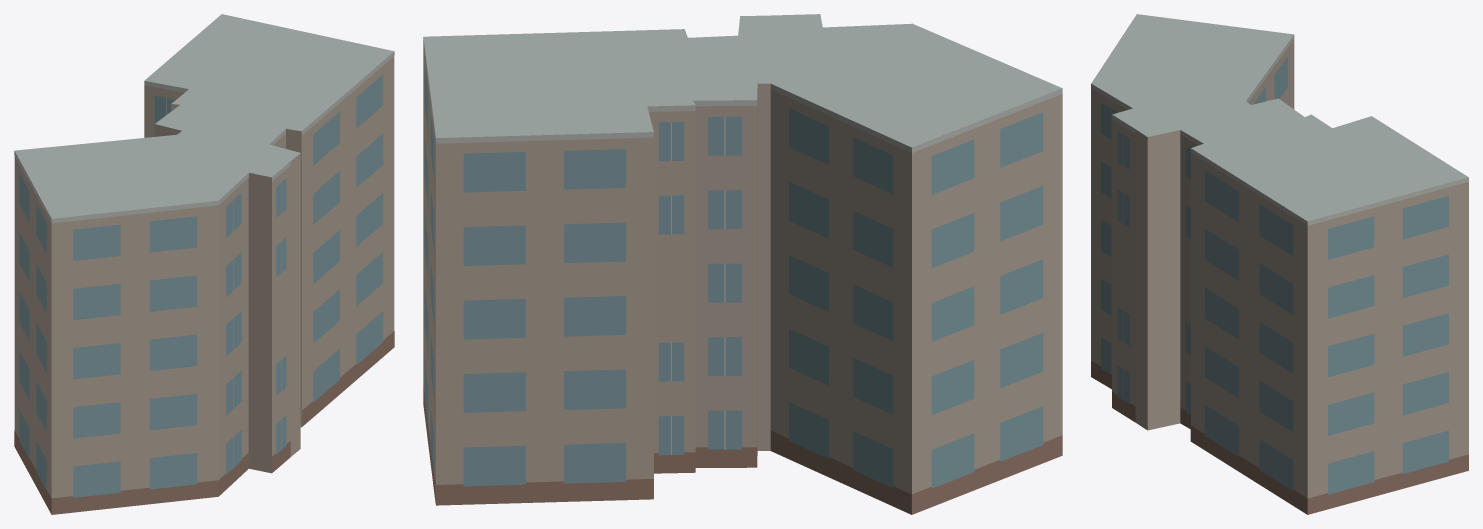
File: survey-upis-32674985.glb
The picture shows the model from 3 angles, left to right: view 1: azimuth 30°, elevation 25°; view 2: azimuth 150°, elevation 25°; view 3: azimuth 270°, elevation 25°; orthographic projection. The views are drawn at different scales.
Visible parts, largest first — view 1: survey-upis-32674985.tmp; view 2: survey-upis-32674985.tmp; view 3: survey-upis-32674985.tmp.
Boxes of the visible parts, x1,y1,x2,y2 form: survey-upis-32674985.tmp: (14,14,394,514); survey-upis-32674985.tmp: (423,14,1062,514); survey-upis-32674985.tmp: (1091,14,1468,514).
Bounding box in the file's own units: 24.35 × 16.05 × 18.74.
